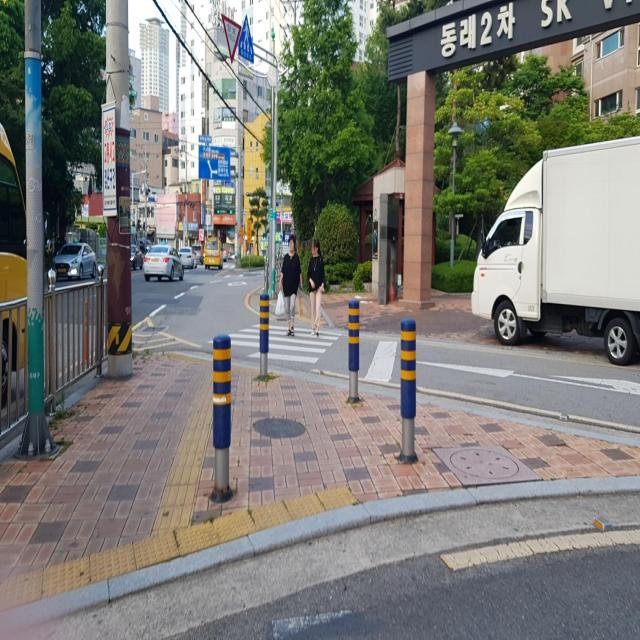횡단보도: (206, 323, 343, 365)
